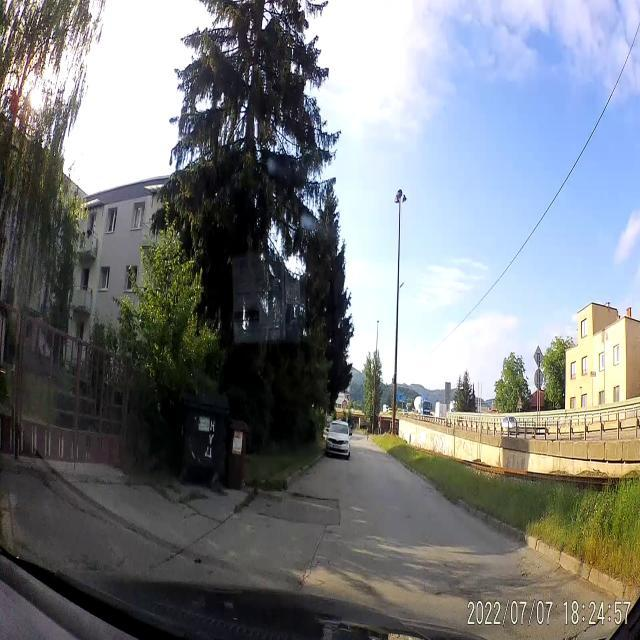Pothole: (286, 485, 342, 507)
